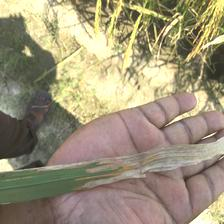2 BacterialBlight: (66, 149, 216, 172)
